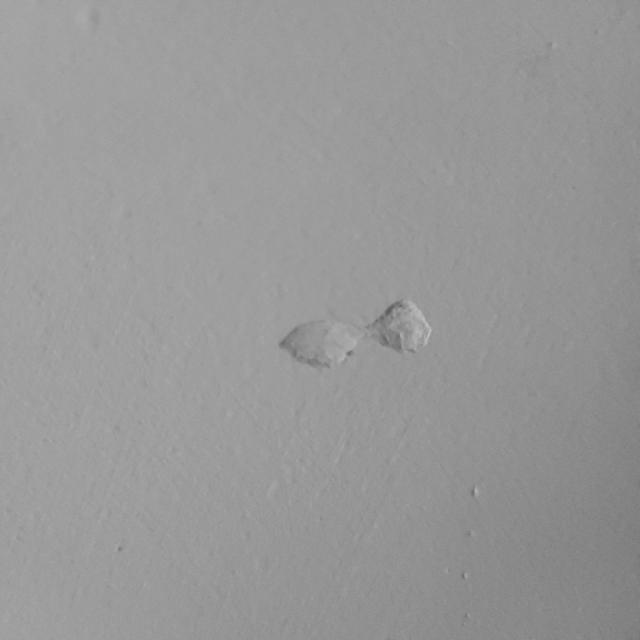rough and patchy surface: (4, 416, 400, 623), (16, 205, 214, 394), (257, 236, 471, 398), (432, 460, 497, 629), (66, 2, 120, 42)
